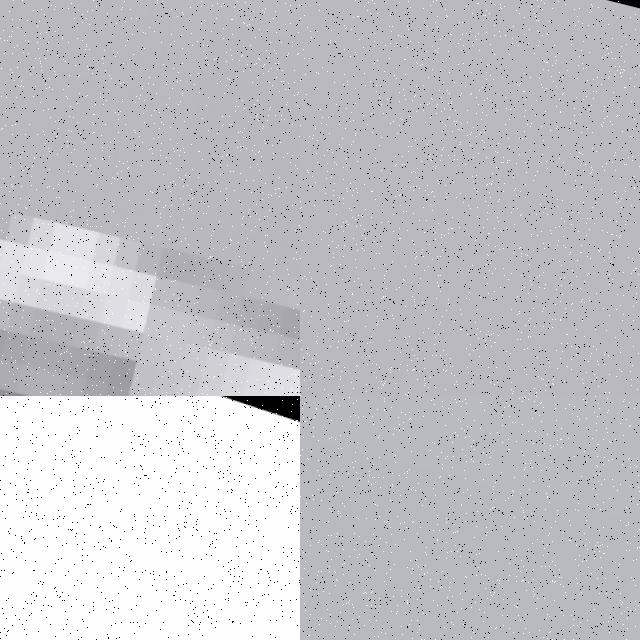drone: (0, 0, 300, 396), (0, 396, 300, 640)
